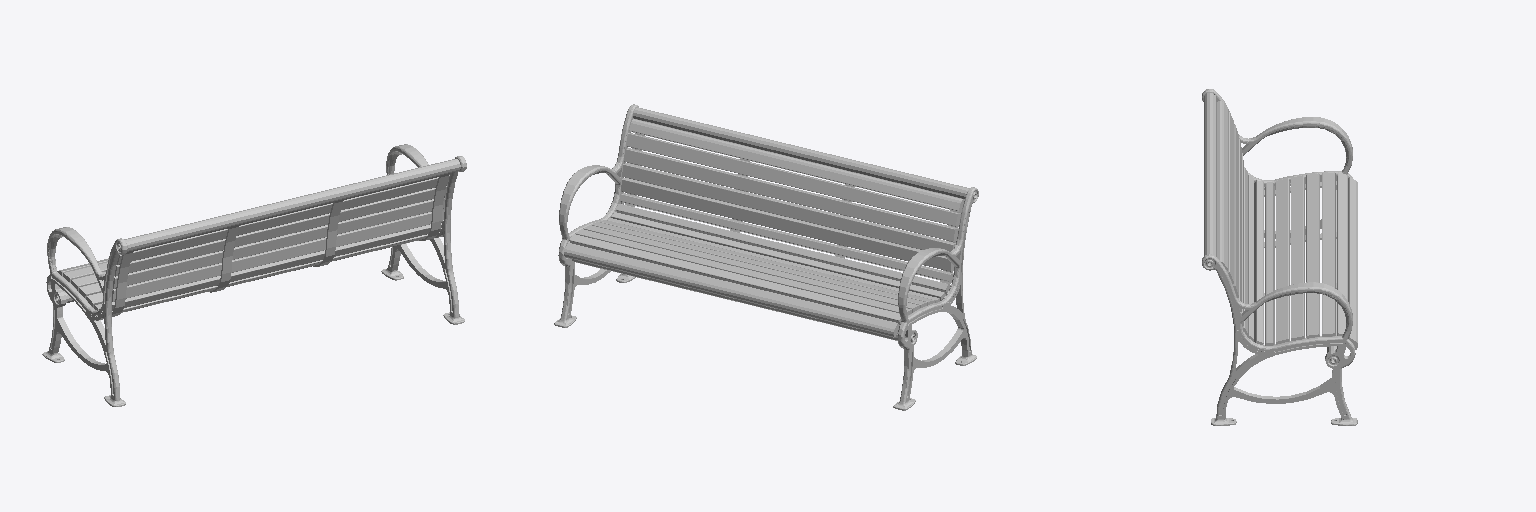
Rendered from bench.obj.
3 views of the same model, side by side, from view 1: azimuth 30°, elevation 25°; view 2: azimuth 150°, elevation 25°; view 3: azimuth 270°, elevation 25° (orthographic).
Parts seen in each view (by area): view 1: mesh13_mesh13-geometry, mesh22_mesh22-geometry, mesh10_mesh10-geometry, mesh16_mesh16-geometry, mesh3_mesh3-geometry; view 2: mesh13_mesh13-geometry, mesh16_mesh16-geometry, mesh19_mesh19-geometry, mesh22_mesh22-geometry, mesh10_mesh10-geometry, mesh5_mesh5-geometry; view 3: mesh13_mesh13-geometry, mesh22_mesh22-geometry, mesh16_mesh16-geometry, mesh19_mesh19-geometry, mesh10_mesh10-geometry.
Boxes of the visible parts, x1=… form: mesh13_mesh13-geometry: x1=63, y1=175, x2=449, y2=307; mesh22_mesh22-geometry: x1=42, y1=144, x2=466, y2=406; mesh10_mesh10-geometry: x1=124, y1=159, x2=460, y2=251; mesh16_mesh16-geometry: x1=57, y1=223, x2=441, y2=312; mesh3_mesh3-geometry: x1=112, y1=173, x2=449, y2=316; mesh13_mesh13-geometry: x1=575, y1=133, x2=960, y2=315; mesh16_mesh16-geometry: x1=569, y1=193, x2=953, y2=324; mesh19_mesh19-geometry: x1=564, y1=119, x2=964, y2=337; mesh22_mesh22-geometry: x1=554, y1=104, x2=978, y2=410; mesh10_mesh10-geometry: x1=633, y1=107, x2=969, y2=198; mesh5_mesh5-geometry: x1=572, y1=259, x2=897, y2=340; mesh13_mesh13-geometry: x1=1227, y1=112, x2=1335, y2=344; mesh22_mesh22-geometry: x1=1202, y1=89, x2=1357, y2=425; mesh16_mesh16-geometry: x1=1243, y1=167, x2=1347, y2=345; mesh19_mesh19-geometry: x1=1216, y1=101, x2=1357, y2=349; mesh10_mesh10-geometry: x1=1204, y1=93, x2=1215, y2=262.
Bounding box in the file's own units: 0.8592 × 0.3903 × 0.3307.